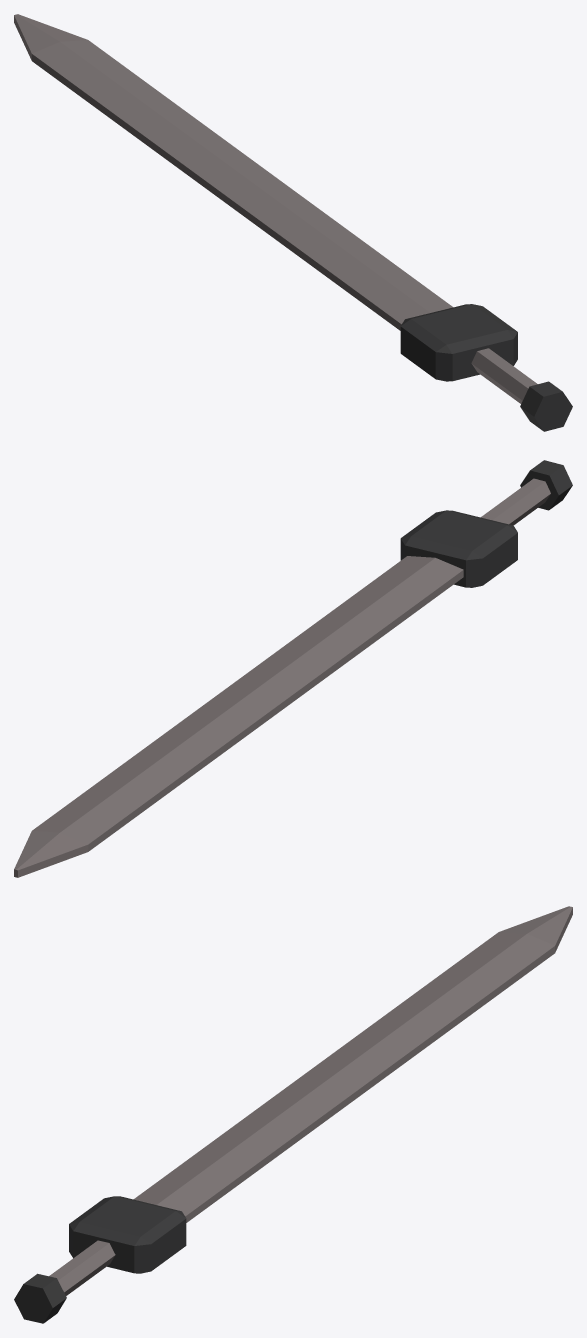
Rendered from Sword.fbx.
3 renders of one model, top to bottom at view 1: azimuth 30°, elevation 25°; view 2: azimuth 150°, elevation 25°; view 3: azimuth 330°, elevation 25°, orthographic.
Parts seen in each view (by area): view 1: Cube.010; view 2: Cube.010; view 3: Cube.010.
Boxes of the visible parts, x1,y1,x2,y2 form: Cube.010: (14,14,572,431); Cube.010: (14,460,572,877); Cube.010: (14,906,572,1323).
Size of the model in its own units: 19.85 by 8.49 by 225.
